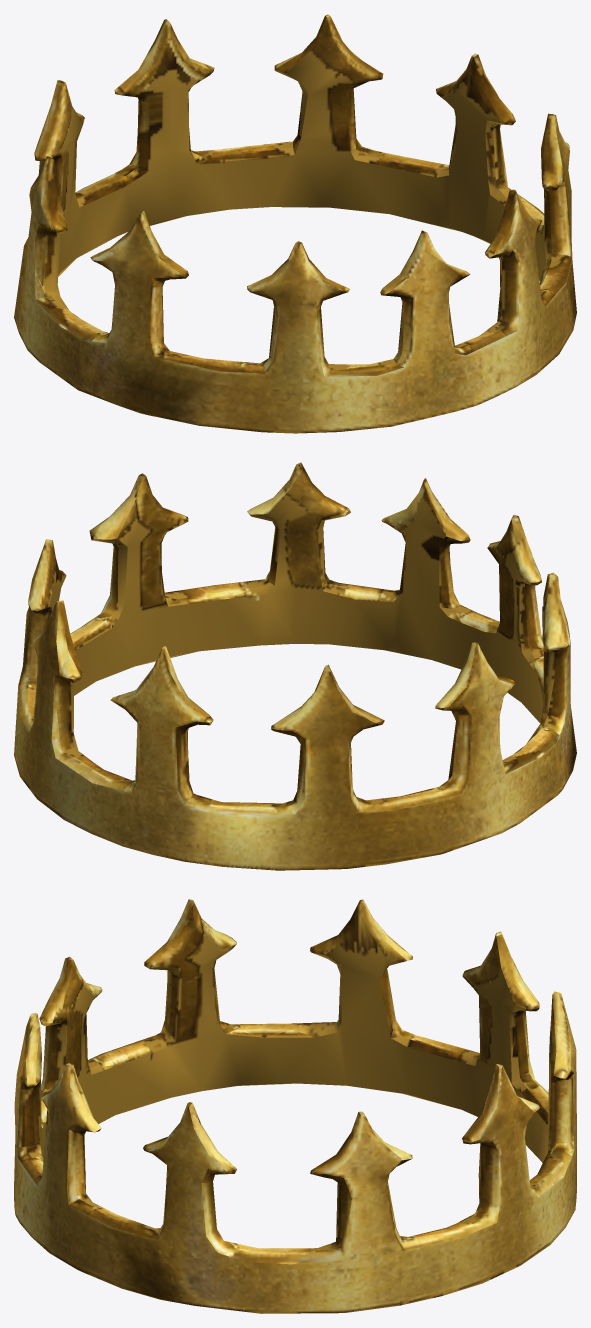
Rendered from item_6crown5.glb.
3 renders of one model, top to bottom at view 1: azimuth 30°, elevation 25°; view 2: azimuth 150°, elevation 25°; view 3: azimuth 270°, elevation 25°, orthographic.
Parts seen in each view (by area): view 1: equipment_6crown5; view 2: equipment_6crown5; view 3: equipment_6crown5.
Boxes of the visible parts, left/top/right/bottom form: equipment_6crown5: left=14, top=14, right=576, bottom=433; equipment_6crown5: left=14, top=462, right=576, bottom=870; equipment_6crown5: left=14, top=899, right=576, bottom=1313.
Size of the model in its own units: 0.9997 by 0.3989 by 1.
Materials: 1 (1 with a texture image).
